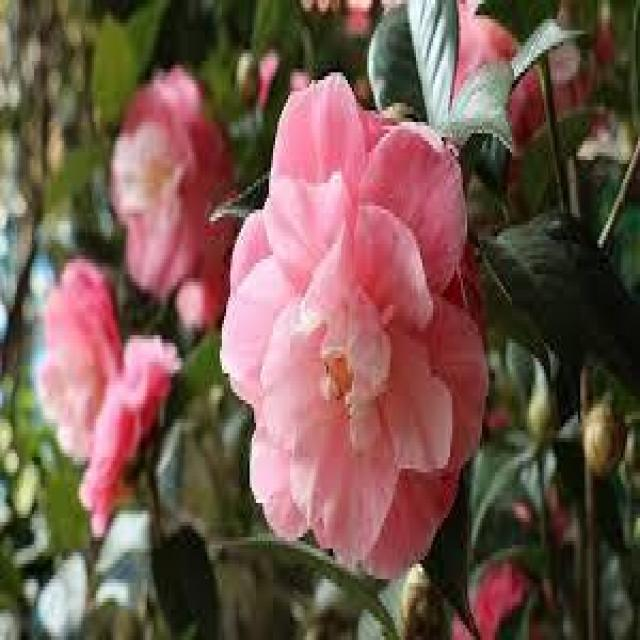organic waste: (220, 80, 482, 568)
